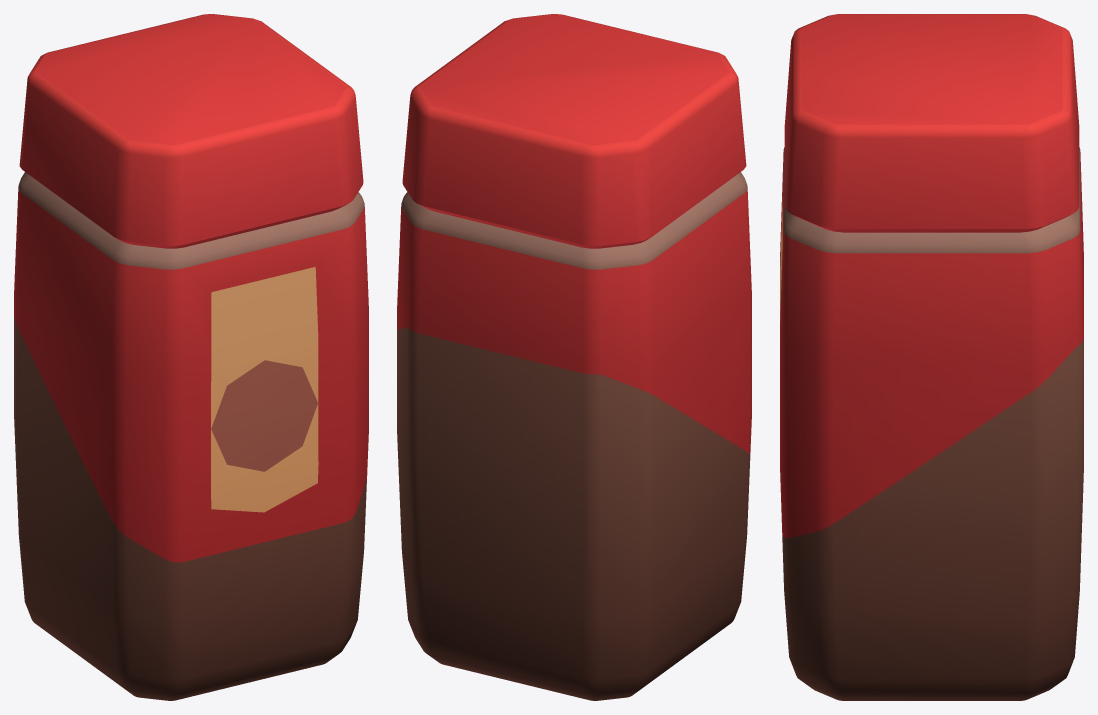
Rendered from coffee_002.fbx.
3 renders of one model, left to right at view 1: azimuth 30°, elevation 25°; view 2: azimuth 150°, elevation 25°; view 3: azimuth 270°, elevation 25°, orthographic. The views are drawn at different scales.
Visible parts, largest first — view 1: coffee_002; view 2: coffee_002; view 3: coffee_002.
Part boxes in pixels (bbox=[...]): coffee_002: bbox=[14, 14, 368, 700]; coffee_002: bbox=[397, 14, 751, 700]; coffee_002: bbox=[780, 14, 1083, 700].
Bounding box in the file's own units: 7 × 7 × 14.89.
